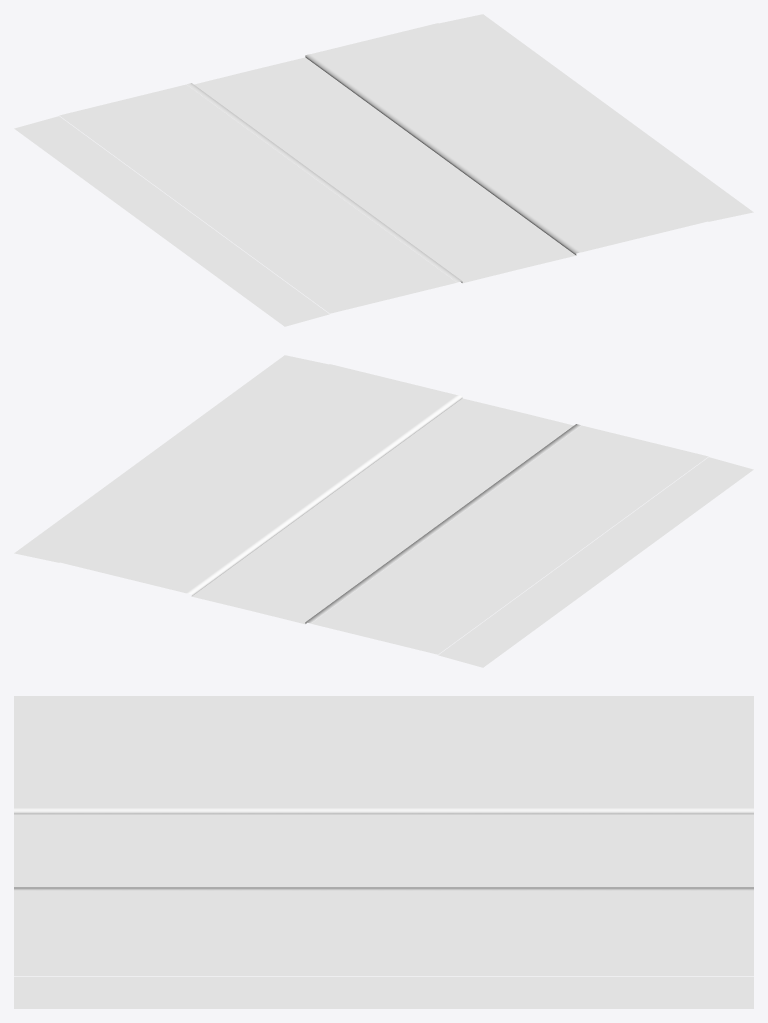
File: tea-ground.glb
3 renders of one model, top to bottom at view 1: azimuth 30°, elevation 25°; view 2: azimuth 150°, elevation 25°; view 3: azimuth 270°, elevation 25°, orthographic. The views are drawn at different scales.
Parts seen in each view (by area): view 1: Curbs_And_Sidewalks, Asphalt_Road, Natural_Ground_Terrain; view 2: Curbs_And_Sidewalks, Asphalt_Road, Natural_Ground_Terrain; view 3: Curbs_And_Sidewalks, Asphalt_Road, Natural_Ground_Terrain.
Part boxes in pixels (x1,y1,x2,y2): Curbs_And_Sidewalks: (59,23,708,313); Asphalt_Road: (194,57,575,283); Natural_Ground_Terrain: (14,14,753,326); Curbs_And_Sidewalks: (59,364,708,654); Asphalt_Road: (192,398,573,624); Natural_Ground_Terrain: (14,355,753,667); Curbs_And_Sidewalks: (14,723,753,975); Asphalt_Road: (14,814,753,887); Natural_Ground_Terrain: (14,696,753,1008).
Size of the model in its own units: 26 by 0.12 by 26.
Materials: 3 (3 with a texture image).
